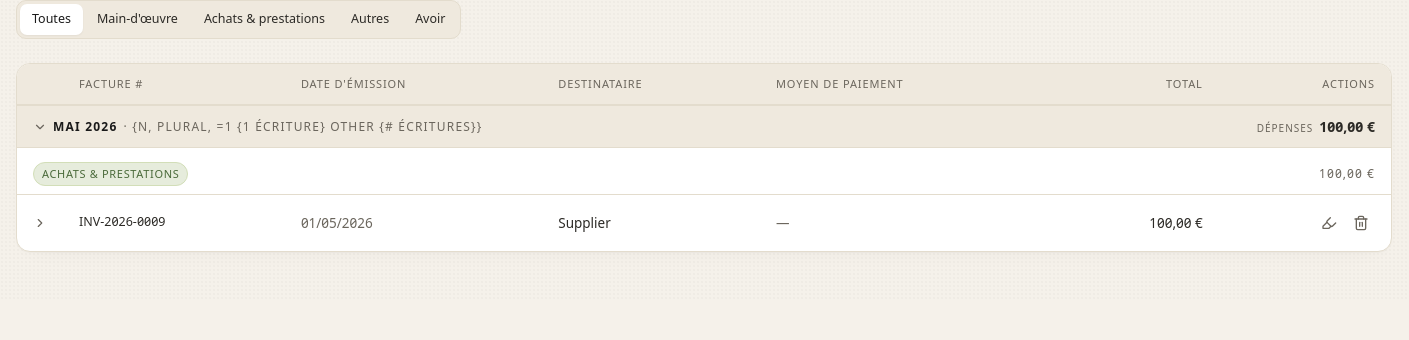
InvoicesPage — refunded expenses › shows a refused delete's reason in the UI language
Click the button named "Supprimer la dépense INV-2026-0009".
click(1361, 223)  # box [1347,209,1375,237]
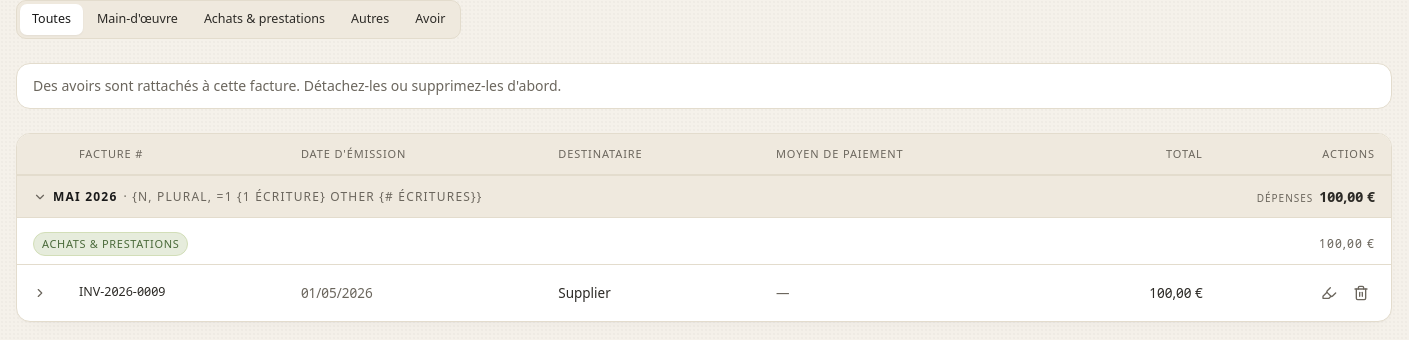
Now the text "Des avoirs sont rattachés à cette facture. Détachez-les ou supprimez-les d'abord." is shown, box [33,76,561,95]
